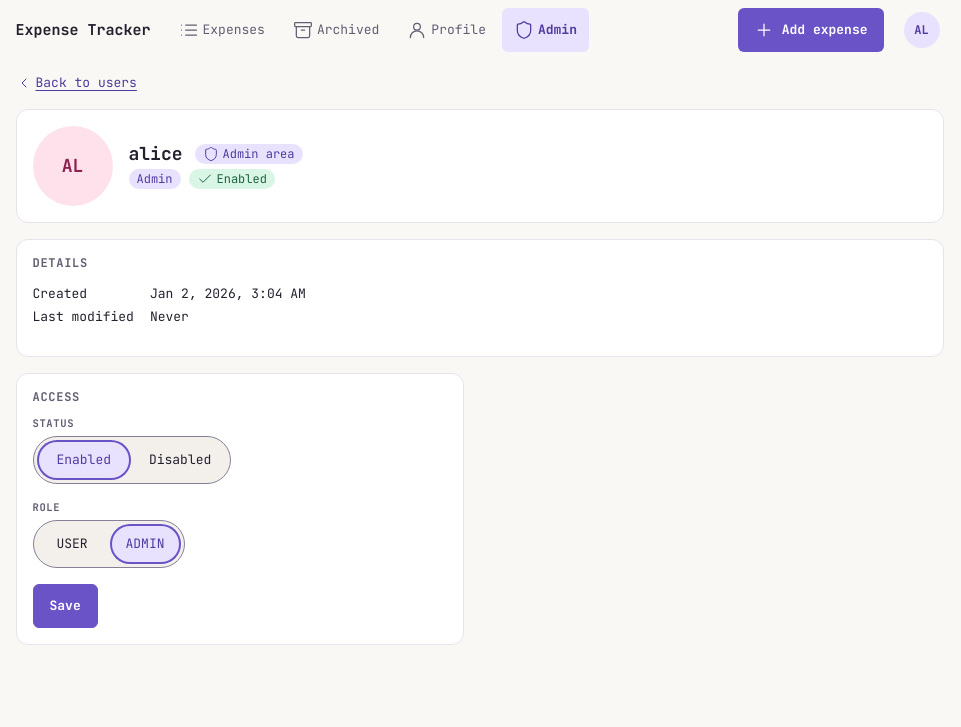
edit user › shows CANNOT_MODIFY_SELF at the form
The width and height of the screenshot is (961, 727).
Expected: the heading "alice" is shown, [128,144,182,165]
Click the radio button labelled "USER". click: [72, 543]
box: [56,535,88,552]
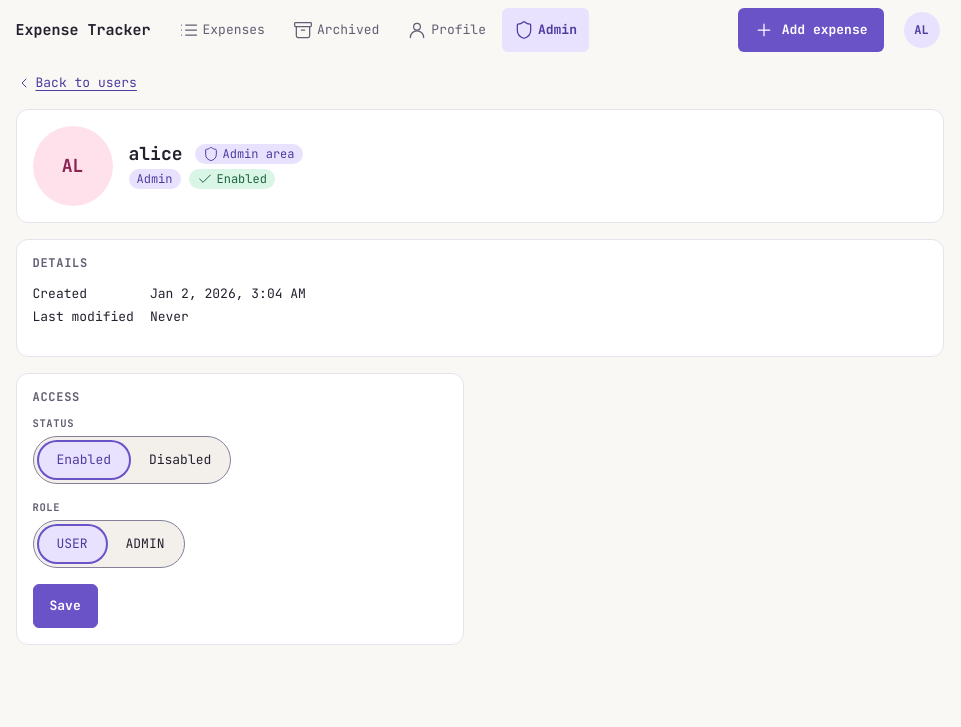
Click the button "Save". click: [65, 606]
box: [32,584,98,628]
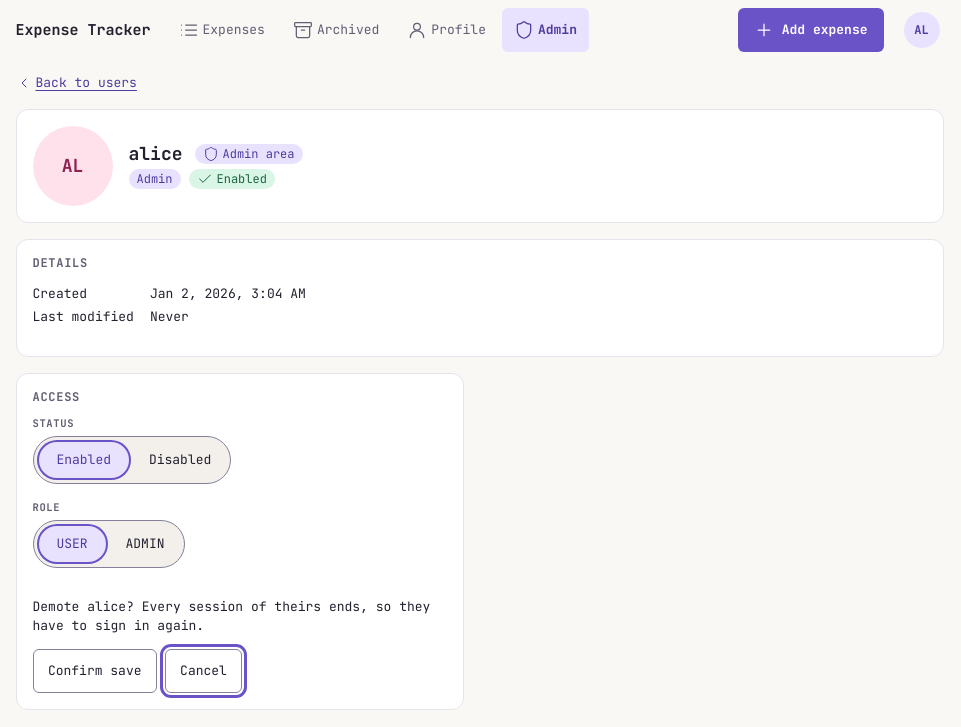
Expected: the text "Demote alice?" is shown, [32,596,446,636]
Click the button "Confirm save". click: [95, 670]
box: [32,648,157,692]
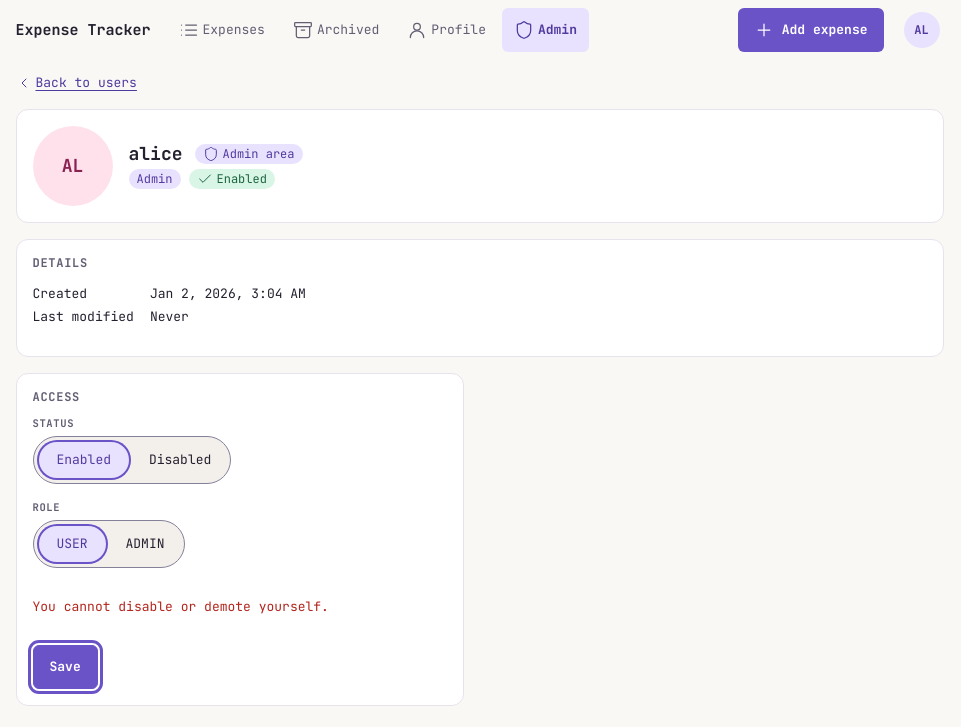
Expected: the message reads "You cannot disable or demote yourself.", [32,598,329,614]
